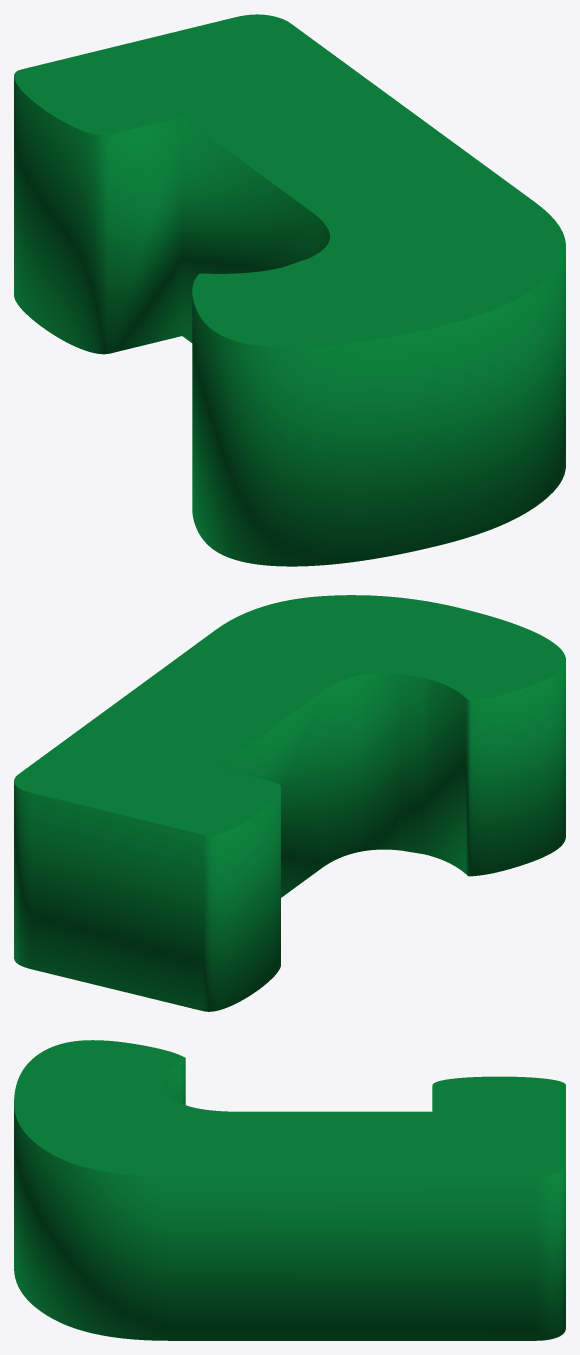
3 views of the same model, one above another, from view 1: azimuth 30°, elevation 25°; view 2: azimuth 150°, elevation 25°; view 3: azimuth 270°, elevation 25° (orthographic). The views are drawn at different scales.
Visible parts, largest first — view 1: j; view 2: j; view 3: j.
Part boxes in pixels (x1,y1,x2,y2): j: (14,14,565,566); j: (14,595,565,1011); j: (14,1040,565,1340).
Bounding box in the file's own units: 0.2027 × 0.1137 × 0.3464.
